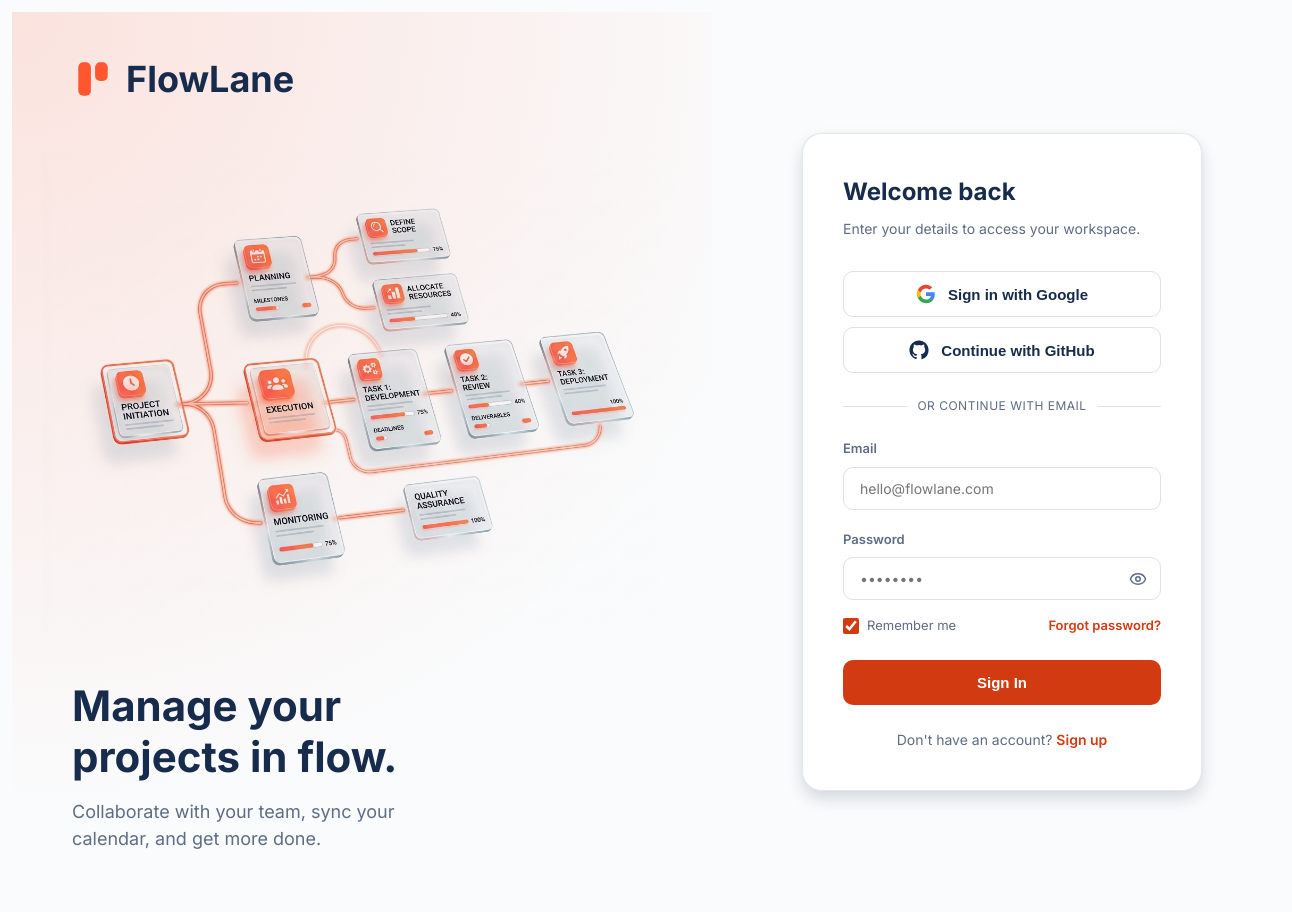
Test: Auth page › returns to the page the visitor first asked for
This screenshot has width=1292, height=912.
Step 1. Click the button "Continue with GitHub" → (1002, 350), box [843,327,1161,373]
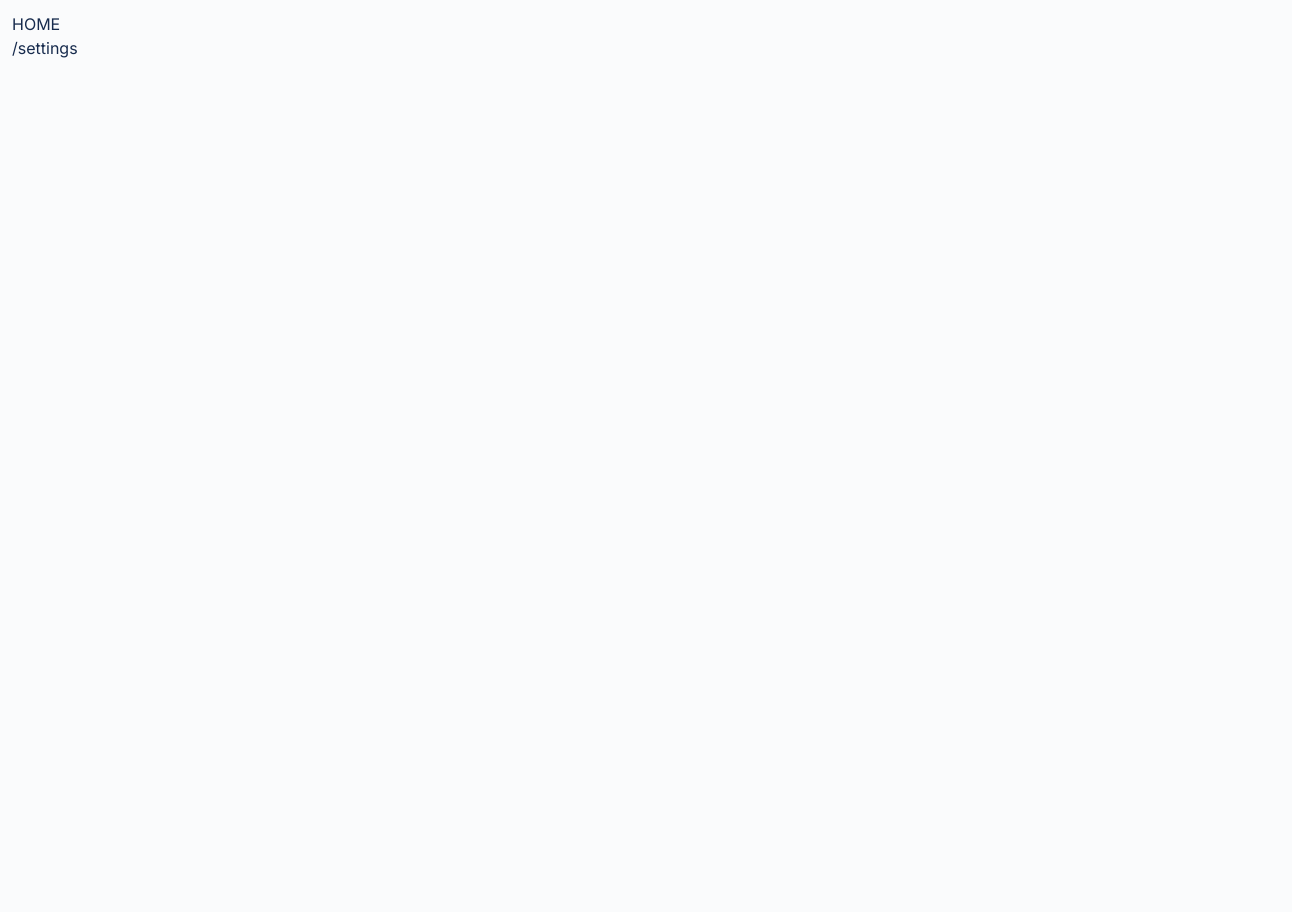
expect the text with test id "where" reads "/settings": met, box [12,38,78,58]
